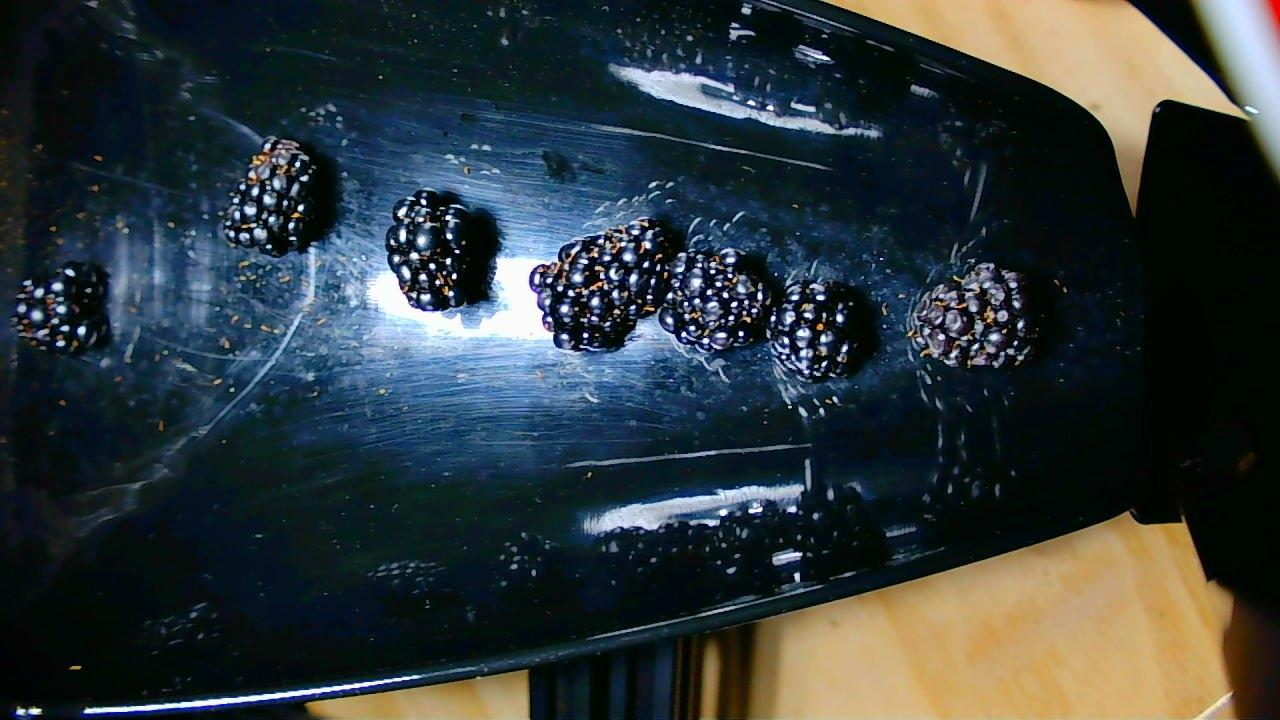berry: (532, 222, 666, 351), (912, 260, 1030, 378), (224, 136, 333, 254), (660, 250, 780, 349), (387, 190, 475, 310), (8, 259, 106, 364), (776, 272, 870, 373)
